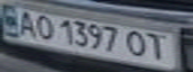1: (51, 16, 75, 45)
3: (69, 19, 87, 47)
7: (103, 24, 124, 54)
9: (84, 21, 106, 52)
A: (12, 8, 39, 37)
O: (124, 28, 151, 58), (30, 12, 57, 41)
T: (142, 29, 172, 62)
